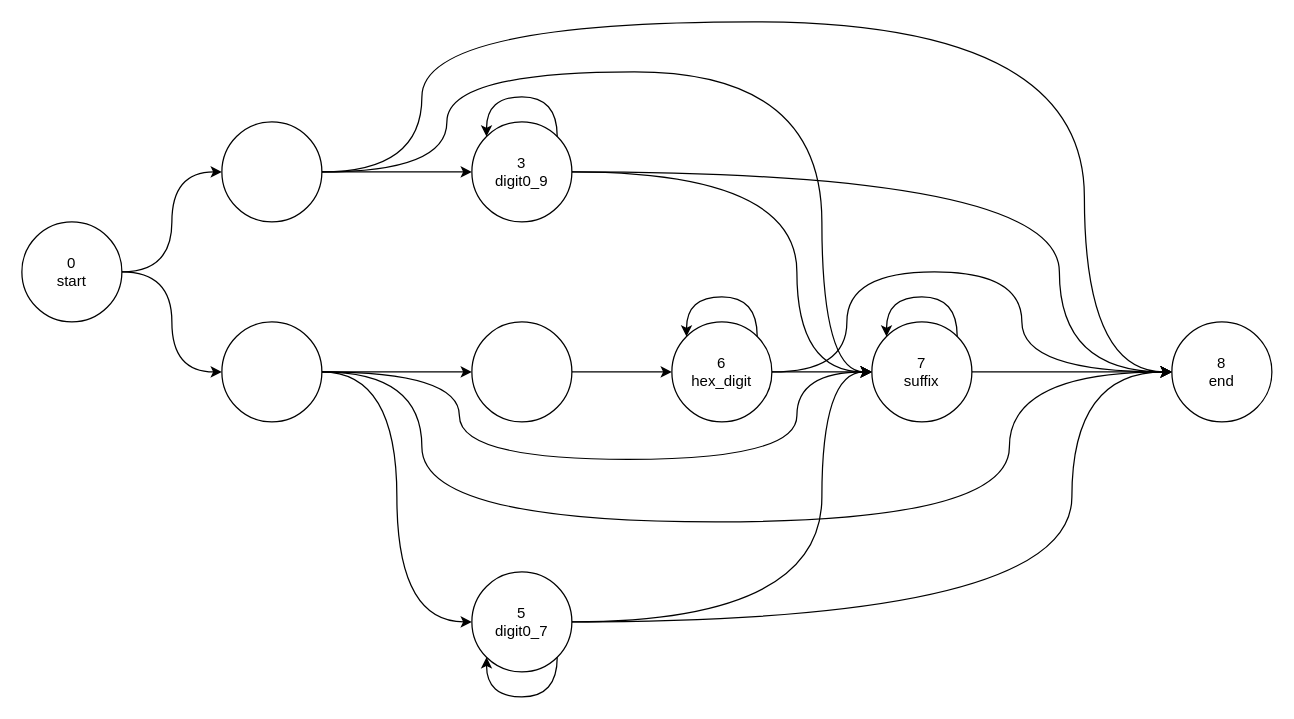
Some shapes in this 1294 by 719 pixel diagram are drawn without their labels. The box of each missing label's shape, as (x1, y1, x2, y2) in pixels:
1 digit1_9: (221, 121, 322, 222)
2 digit0: (221, 321, 322, 422)
4 xX: (471, 321, 572, 422)
